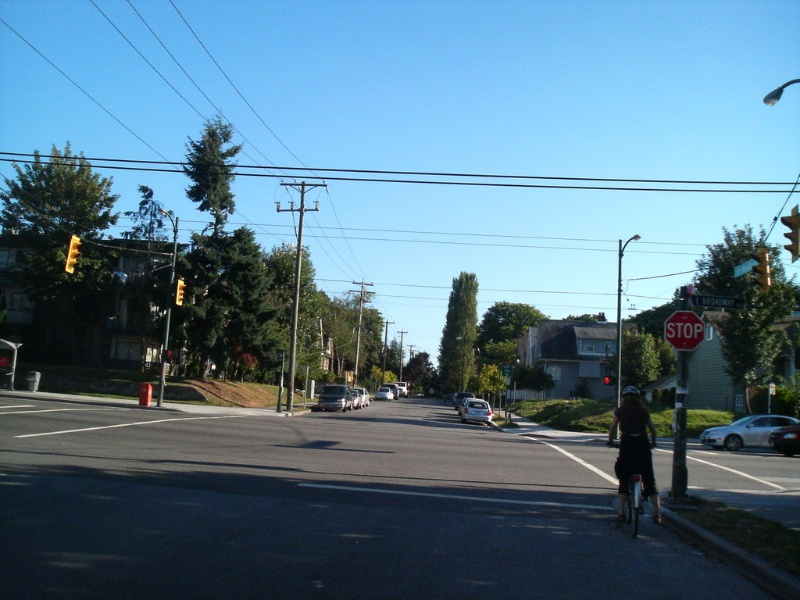red_light: (589, 368, 615, 392), (159, 344, 177, 370)
stop: (664, 314, 712, 362)
